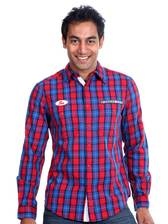clothoes: (15, 61, 154, 221)
